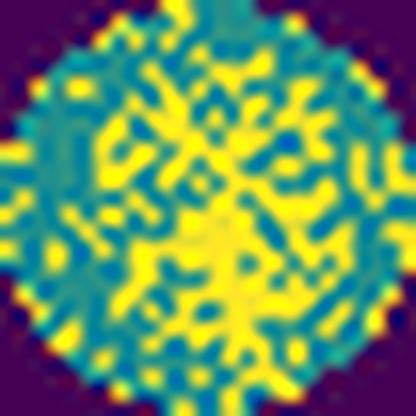Random: (61, 41, 366, 416)
